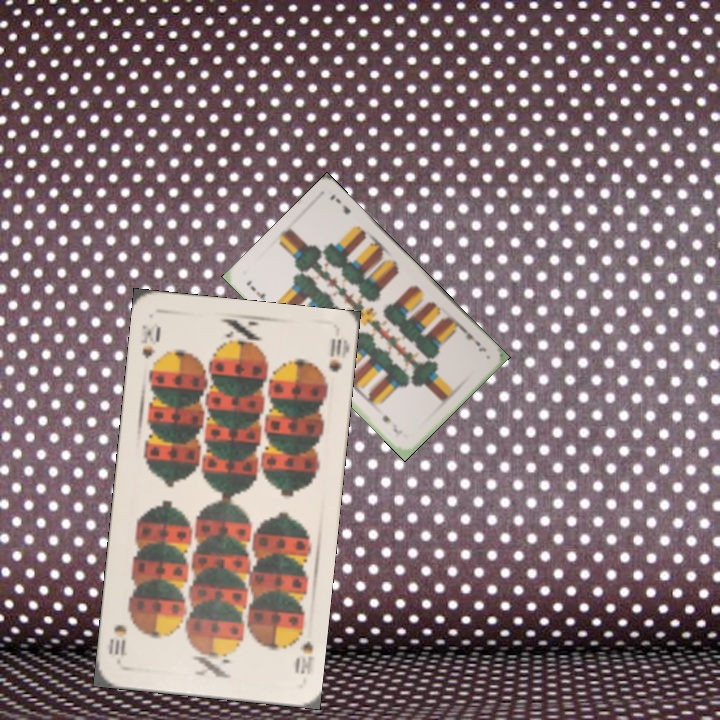E7: (458, 324, 489, 354), (242, 276, 268, 302)
S10: (290, 622, 317, 677), (137, 321, 157, 361)
